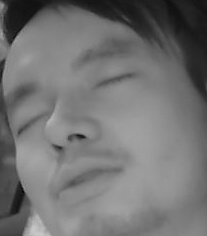blink: (93, 69, 134, 93), (17, 109, 52, 135)
mouth: (49, 152, 131, 205)
